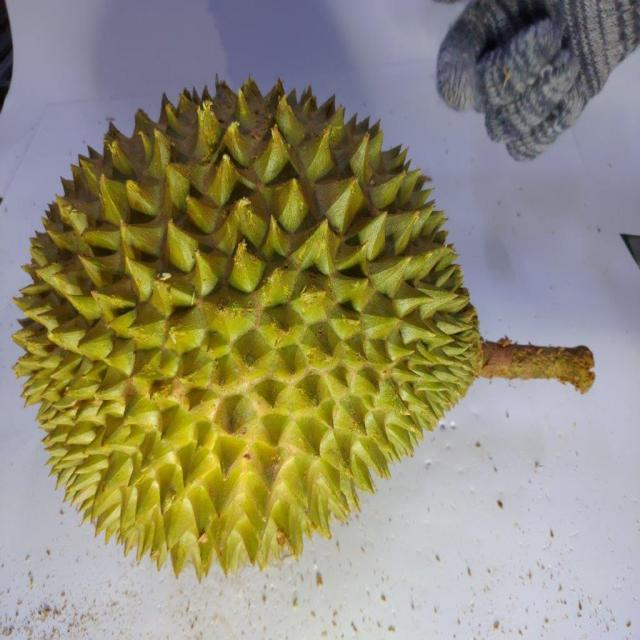immature: (15, 75, 488, 579)
